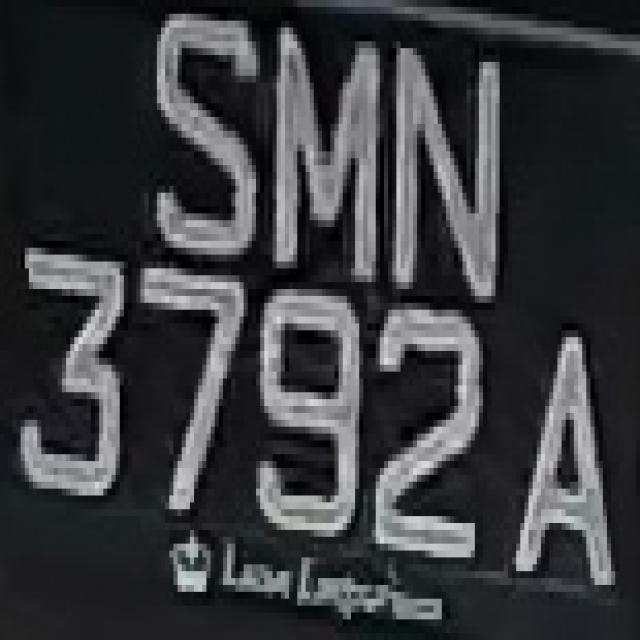2: (359, 296, 475, 564)
3: (17, 213, 132, 523)
7: (120, 248, 239, 537)
9: (244, 248, 363, 578)
A: (512, 310, 619, 606)
M: (252, 7, 392, 289)
N: (384, 28, 516, 316)
S: (132, 7, 260, 275)
